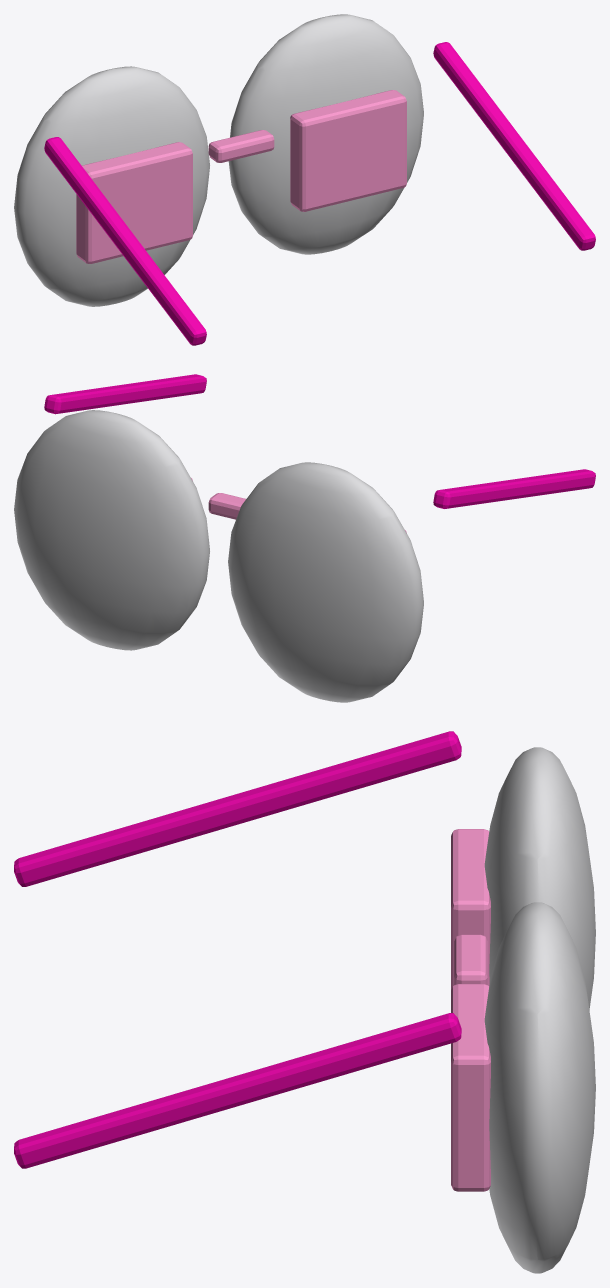
The model's file is VM-NIN-SH39966554.glb.
The picture shows the model from 3 angles, top to bottom: view 1: azimuth 30°, elevation 25°; view 2: azimuth 150°, elevation 25°; view 3: azimuth 270°, elevation 25°; orthographic projection. The views are drawn at different scales.
Visible parts, largest first — view 1: Gafas de Esquí Infantiles Juli; view 2: Gafas de Esquí Infantiles Juli; view 3: Gafas de Esquí Infantiles Juli.
Part boxes in pixels (left/top/right/bottom): Gafas de Esquí Infantiles Juli: left=14, top=14, right=595, bottom=345; Gafas de Esquí Infantiles Juli: left=14, top=374, right=595, bottom=702; Gafas de Esquí Infantiles Juli: left=14, top=731, right=595, bottom=1273.
Size of the model in its own units: 0.1254 by 0.0692 by 0.105.
